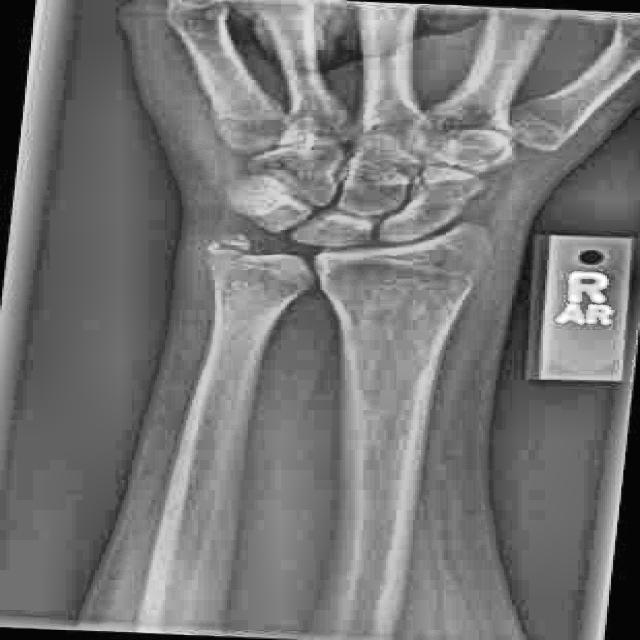wrist positive: (226, 242, 330, 294)
